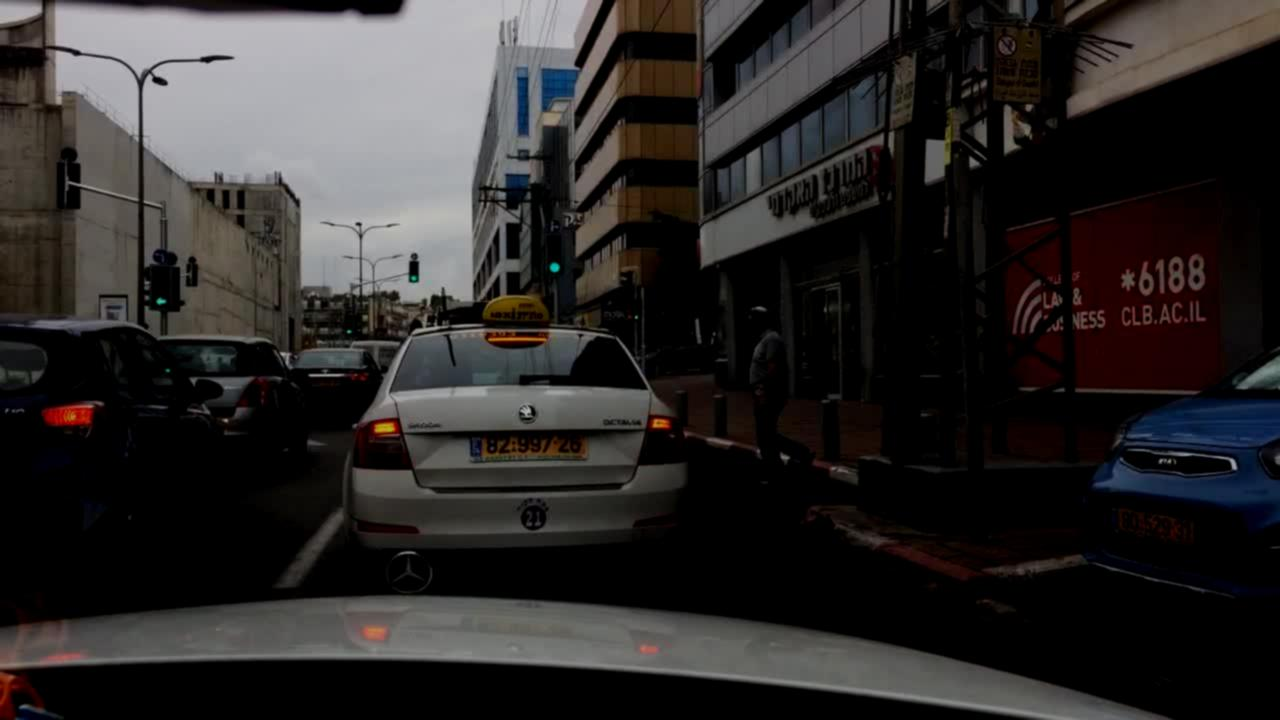kia: (1153, 452, 1180, 469)
skoda: (516, 400, 543, 429)
